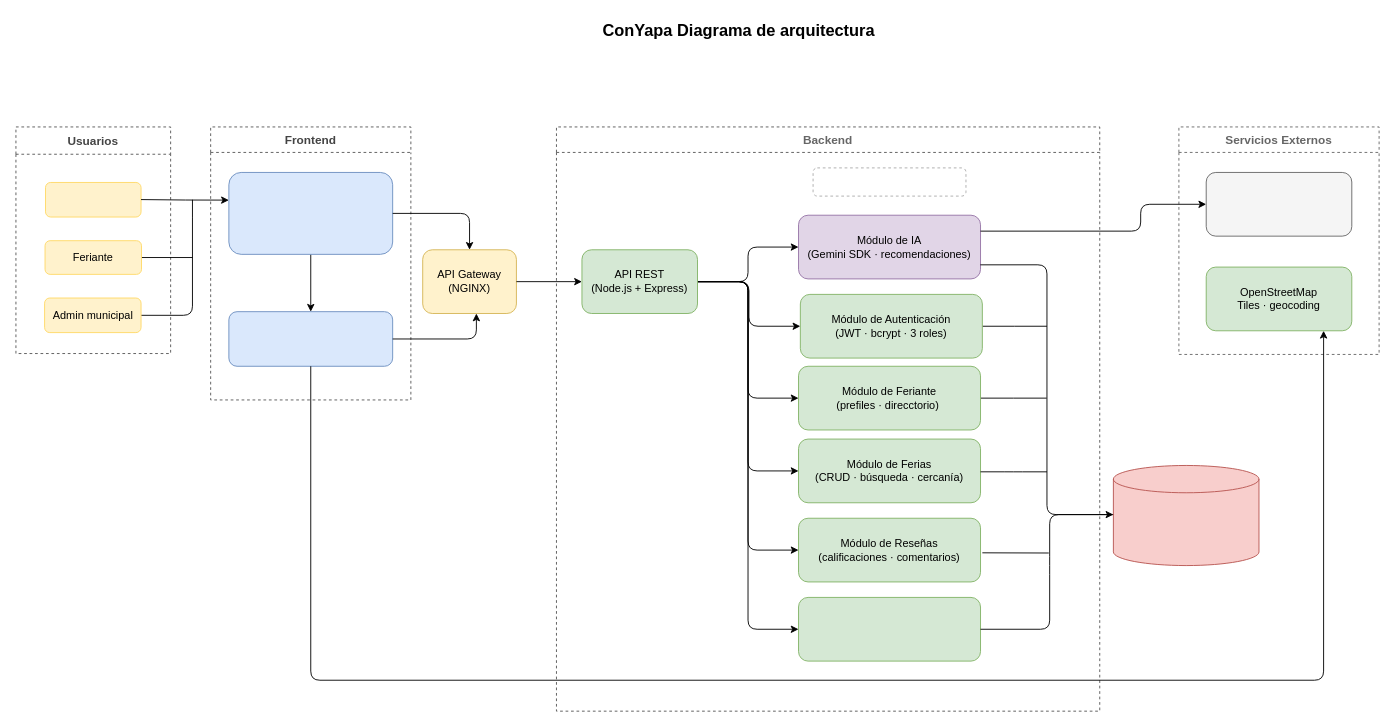
Some shapes in this 1395 by 727 pixel diagram are drawn without their labels. The centre of each missing label's shape, as x and y in pixels:
"Base de datos PostgreSQL" goes at (1185,515).
"Cliente" goes at (93,199).
"Comunicación interna (REST)" goes at (889,181).
"Gemini API" goes at (1278,204).
"Leaflet (mapa interactivo)" goes at (310,338).
"Módulo de Lista (compras · matching)" goes at (889,629).
"React SPA TypeScript + Vite Axios + Tailwind" goes at (310,213).
